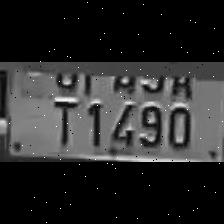0: (164, 100, 194, 150)
1: (78, 97, 104, 146)
4: (105, 97, 135, 147)
9: (135, 100, 163, 148)
T: (46, 96, 80, 146)
